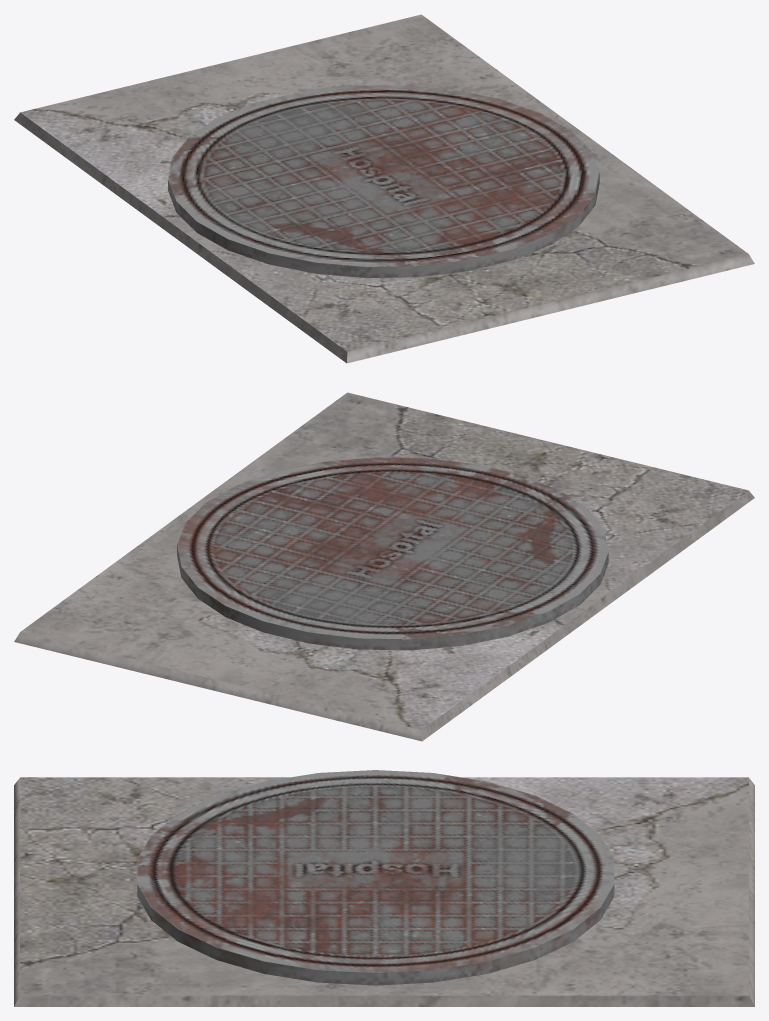
File: HH_Sewage_Block.fbx
The picture shows the model from 3 angles, top to bottom: view 1: azimuth 30°, elevation 25°; view 2: azimuth 150°, elevation 25°; view 3: azimuth 270°, elevation 25°; orthographic projection. The views are drawn at different scales.
Visible parts, largest first — view 1: HH_Sewage_Block; view 2: HH_Sewage_Block; view 3: HH_Sewage_Block.
Boxes of the visible parts, left/top/right/bottom form: HH_Sewage_Block: left=14, top=14, right=754, bottom=363; HH_Sewage_Block: left=14, top=392, right=754, bottom=741; HH_Sewage_Block: left=14, top=770, right=754, bottom=1006.
Bounding box in the file's own units: 61.77 × 2.86 × 87.23.
